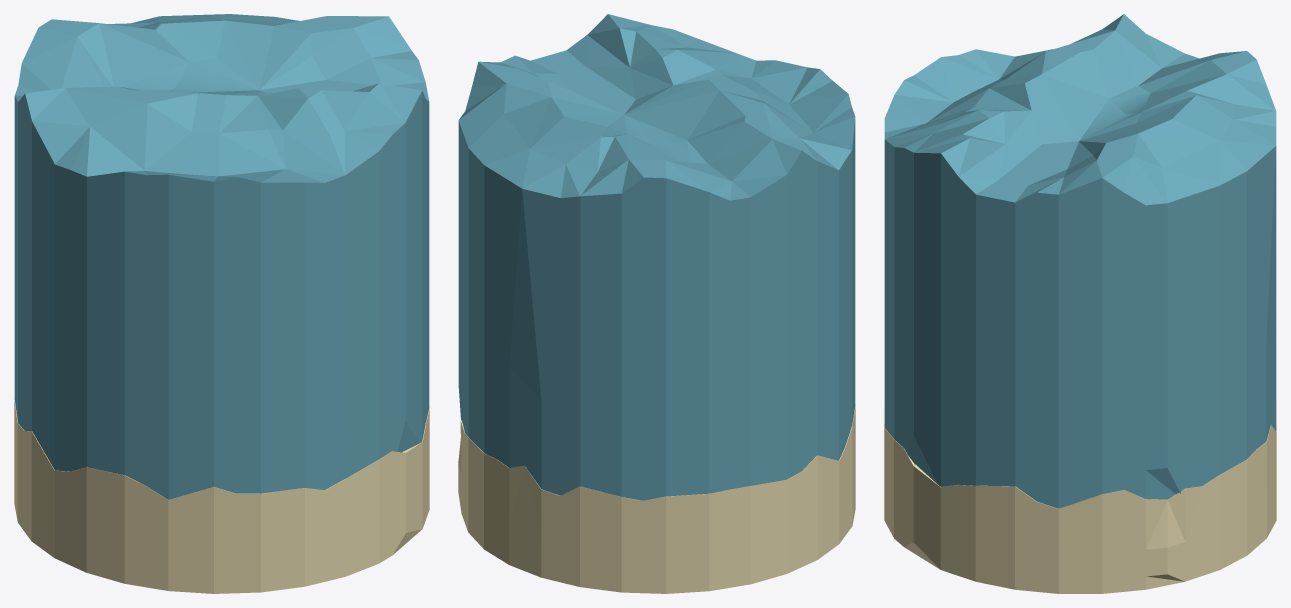
The model's file is water_pollution.glb.
3 views of the same model, side by side, from view 1: azimuth 30°, elevation 25°; view 2: azimuth 150°, elevation 25°; view 3: azimuth 270°, elevation 25° (orthographic). The views are drawn at different scales.
Visible parts, largest first — view 1: water, sand; view 2: water, sand; view 3: water, sand.
Boxes of the visible parts, bbox=[...] form: water: bbox=[14, 14, 429, 499]; sand: bbox=[14, 399, 429, 593]; water: bbox=[458, 14, 855, 500]; sand: bbox=[458, 405, 855, 593]; water: bbox=[884, 14, 1276, 508]; sand: bbox=[884, 401, 1276, 593].
Size of the model in its own units: 15.6 by 18.38 by 15.59.
